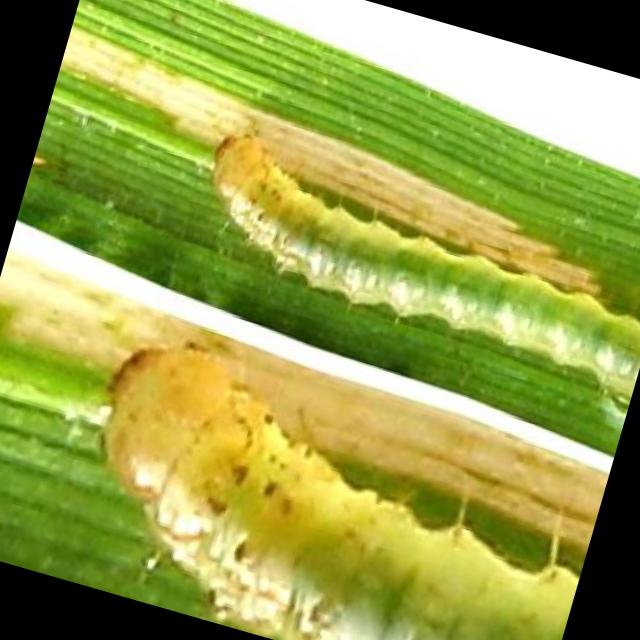leaf-folder: (24, 300, 616, 640), (167, 87, 640, 426)
